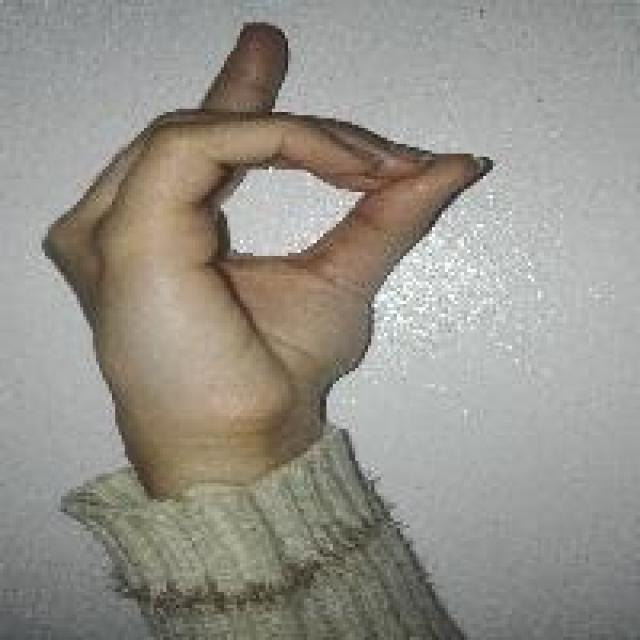D: (32, 15, 493, 428)
